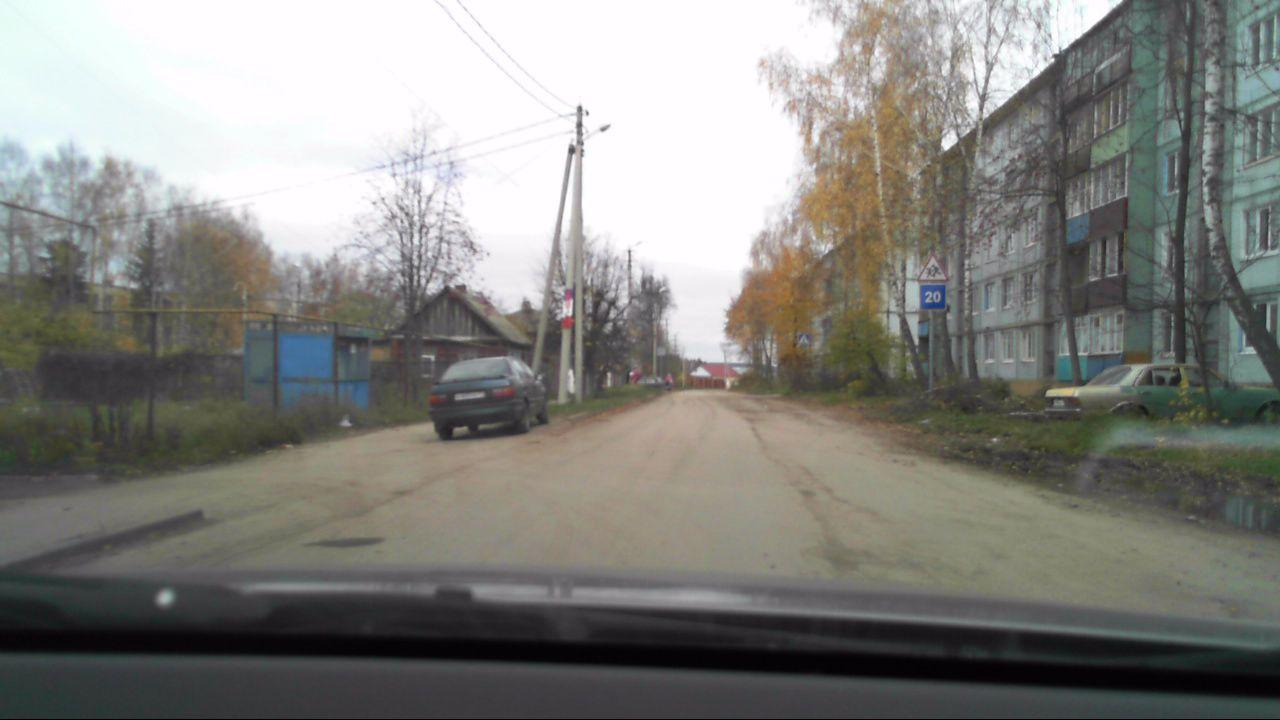1_23: (915, 253, 950, 283)
5_19_1: (796, 330, 812, 347)
6_2: (920, 284, 946, 310)
